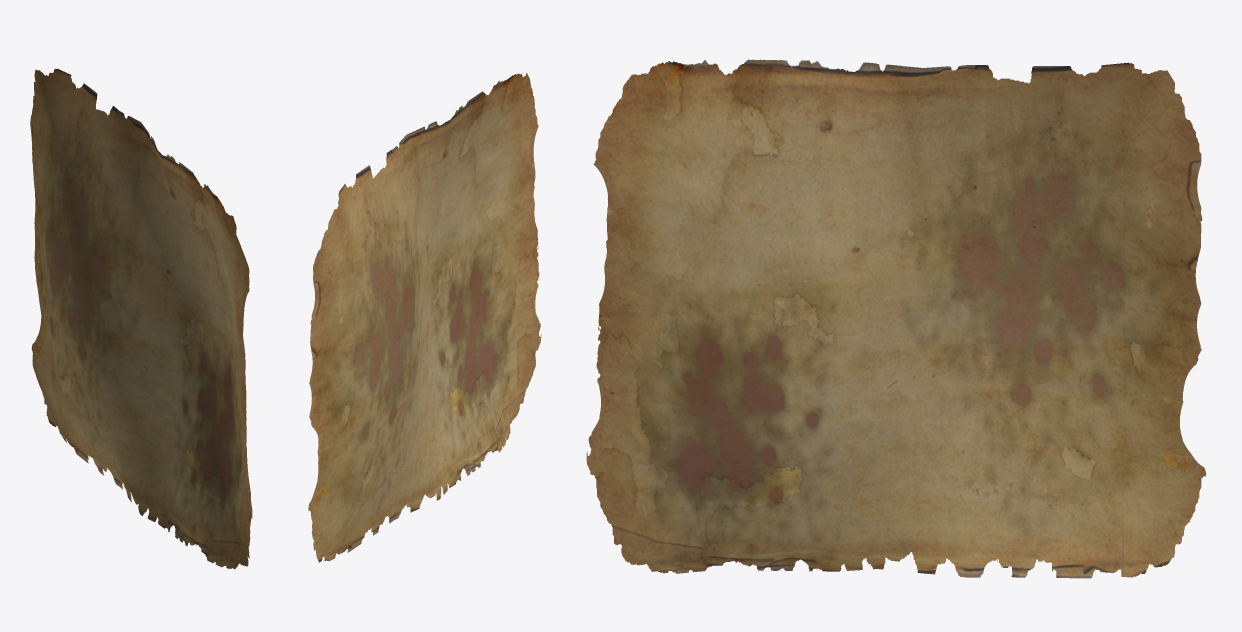
Rendered from tissue1.FBX.
3 renders of one model, left to right at view 1: azimuth 30°, elevation 25°; view 2: azimuth 150°, elevation 25°; view 3: azimuth 270°, elevation 25°, orthographic. The views are drawn at different scales.
Visible parts, largest first — view 1: tissue1; view 2: tissue1; view 3: tissue1.
Part boxes in pixels (<box>): tissue1: <box>30,68,252,569</box>; tissue1: <box>308,73,541,562</box>; tissue1: <box>586,59,1206,578</box>.
Size of the model in its own units: 8.89 by 100 by 100.
